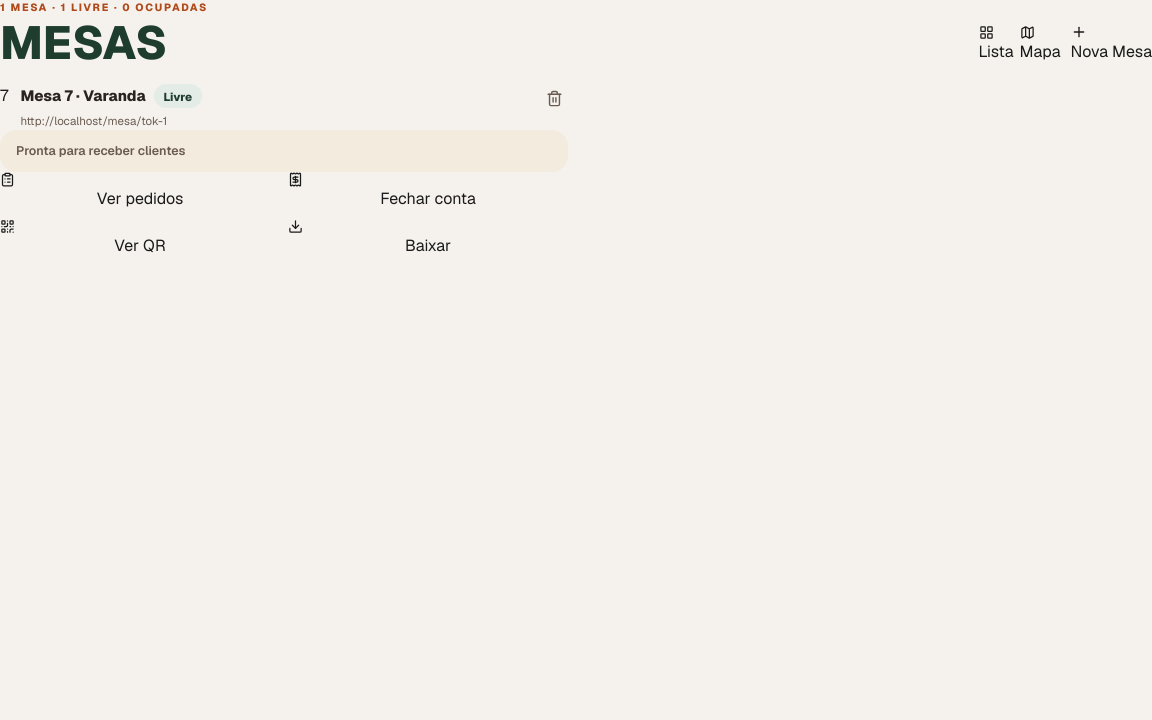
Scenario: a conta da mesa › agrupa os itens por pessoa
Click the button "Fechar conta".
click(428, 192)  # box [288,172,568,211]
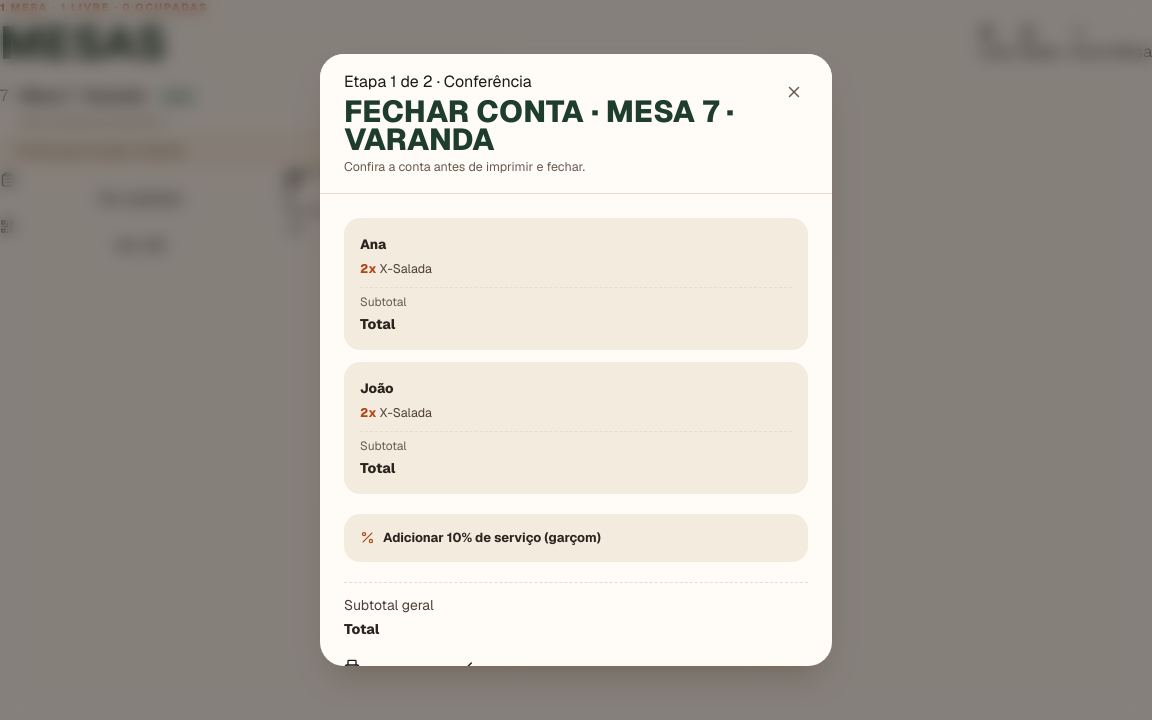
Now the text "Ana" is shown, box [360,235,386,253]
Now the text "João" is shown, box [360,379,394,397]
